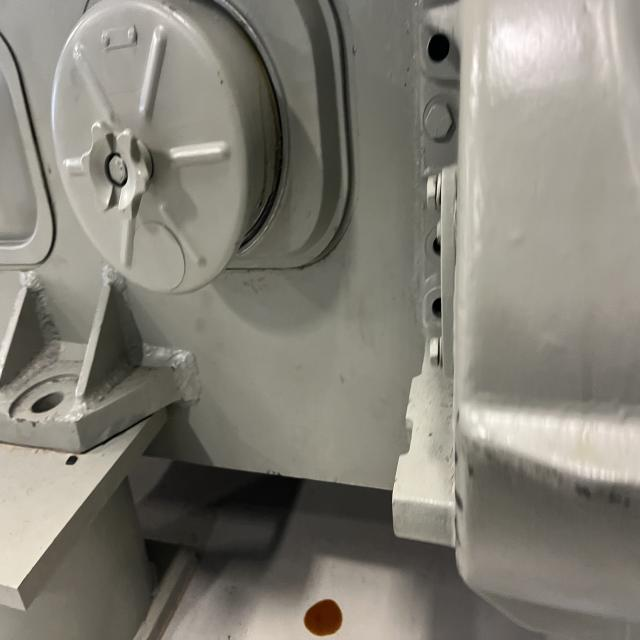Oil Leak: (298, 593, 350, 640), (325, 611, 333, 618)
